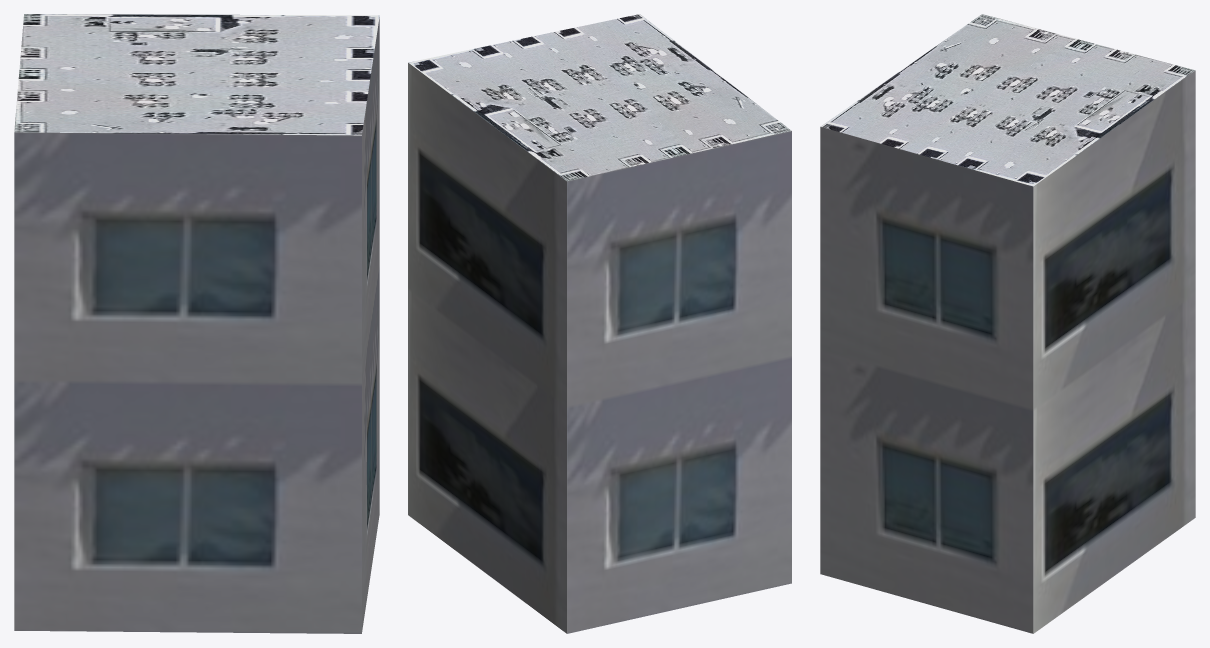
Rendered from ResTex__3139.fbx.
3 renders of one model, left to right at view 1: azimuth 30°, elevation 25°; view 2: azimuth 150°, elevation 25°; view 3: azimuth 270°, elevation 25°, orthographic. The views are drawn at different scales.
Parts seen in each view (by area): view 1: CityEngineMaterial_10_m, CityEngineMaterial_8_m; view 2: CityEngineMaterial_10_m, CityEngineMaterial_8_m; view 3: CityEngineMaterial_10_m, CityEngineMaterial_8_m.
Boxes of the visible parts, x1=… form: CityEngineMaterial_10_m: x1=14, y1=17, x2=379, y2=633; CityEngineMaterial_8_m: x1=14, y1=14, x2=379, y2=135; CityEngineMaterial_10_m: x1=408, y1=63, x2=791, y2=633; CityEngineMaterial_8_m: x1=408, y1=14, x2=791, y2=181; CityEngineMaterial_10_m: x1=820, y1=70, x2=1195, y2=633; CityEngineMaterial_8_m: x1=820, y1=14, x2=1194, y2=186.
Bounding box in the file's own units: 4.96 × 6 × 4.56.
Materials: 2 (2 with a texture image).
